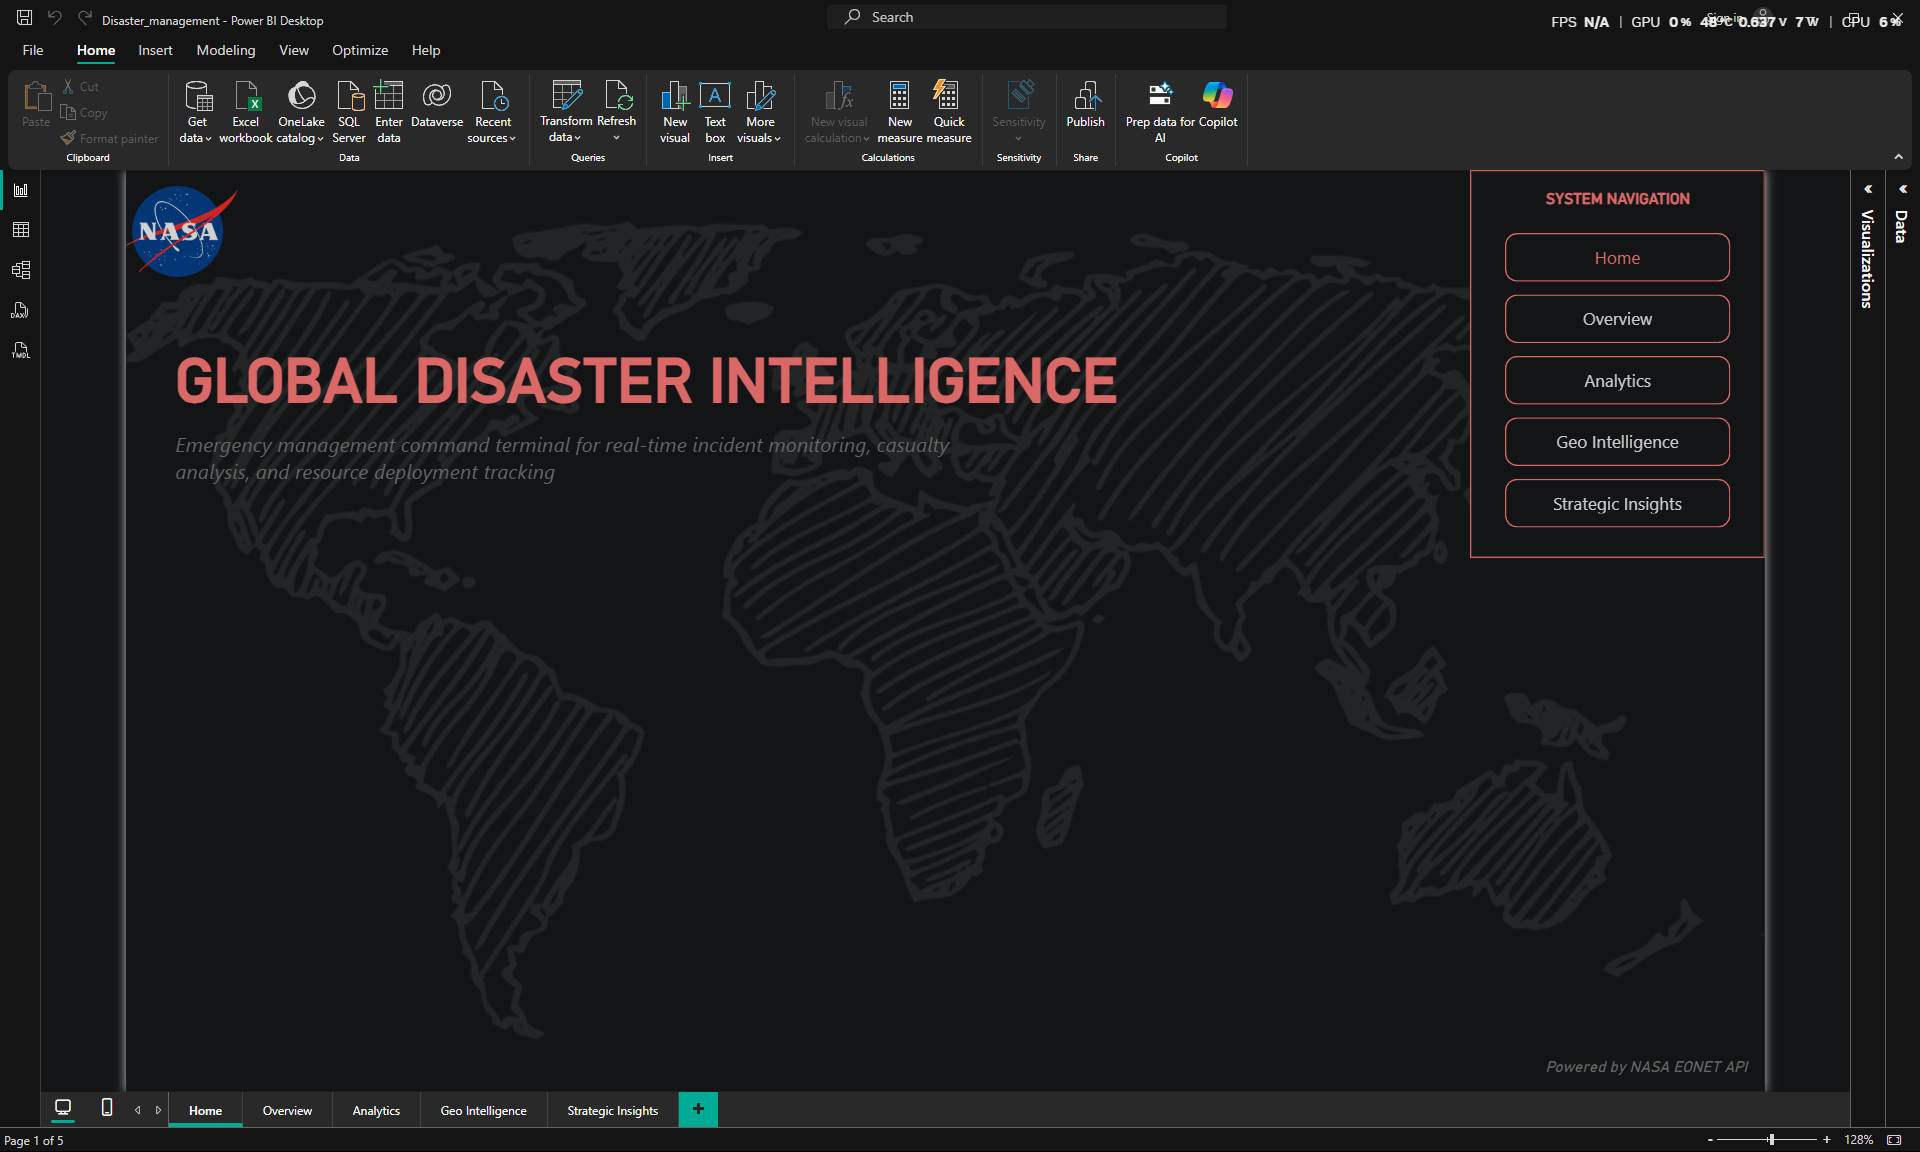

This screenshot's page, from the dashboard's own definition file:
{"tool":"powerbi","page":{"name":"Home","canvas":[1280,720],"ordinal":0},"visuals":[{"type":"image","box":[0,0,1280,719.7],"z":0},{"type":"textbox","box":[33.6,131.1,846.1,67.3],"z":0,"group":"g1"},{"type":"group","id":"g1","title":"Group 1","box":[33.6,131.1,846.1,126.8],"z":1000},{"type":"textbox","box":[33.6,198.4,646,59.5],"z":1000,"group":"g1"},{"type":"shape","box":[1049.7,0,230.3,302.9],"z":2000},{"type":"pageNavigator","box":[1076.7,48.9,176.3,230.3],"z":3000},{"type":"textbox","box":[1077.3,7.8,175.1,30.2],"z":4000},{"type":"textbox","box":[1103.2,685.7,176.8,34.5],"z":5000},{"type":"image","box":[0,0,87.1,95.7],"z":6000}]}

Visuals, with their boxes on the page's 1280x720 design canvas (x1, y1, x2, y2). These are canvas units, not pixel positions in the 1920x1152 screenshot, which may show the page scaled, cropped or inside an application window:
image: rect(0, 0, 1280, 720)
textbox: rect(34, 131, 880, 198)
"Group 1" group: rect(34, 131, 880, 258)
textbox: rect(34, 198, 680, 258)
shape: rect(1050, 0, 1280, 303)
pageNavigator: rect(1077, 49, 1253, 279)
textbox: rect(1077, 8, 1252, 38)
textbox: rect(1103, 686, 1280, 720)
image: rect(0, 0, 87, 96)
